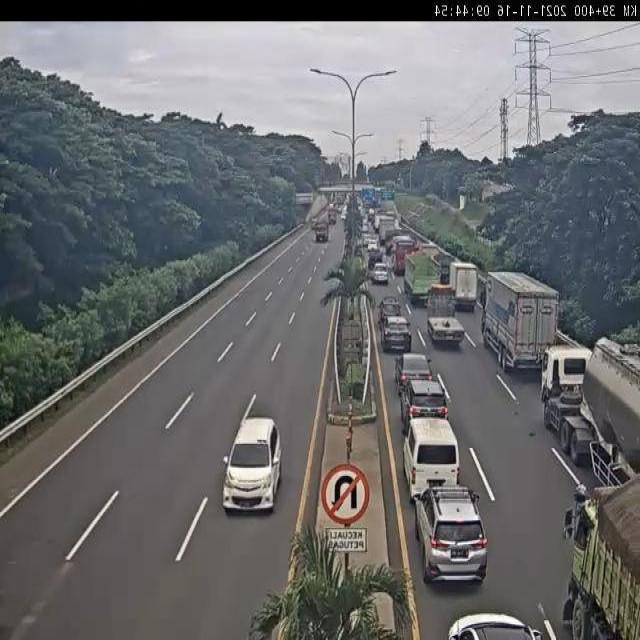Car: (412, 483, 488, 584), (220, 419, 282, 514), (446, 612, 546, 639), (399, 376, 448, 421), (394, 352, 434, 406), (379, 315, 412, 353), (372, 263, 389, 284)
Truck: (540, 336, 640, 473), (565, 474, 639, 640), (481, 273, 559, 369), (426, 284, 464, 346), (404, 253, 443, 310), (450, 260, 478, 304), (314, 221, 329, 243)
Van: (403, 416, 459, 501)
